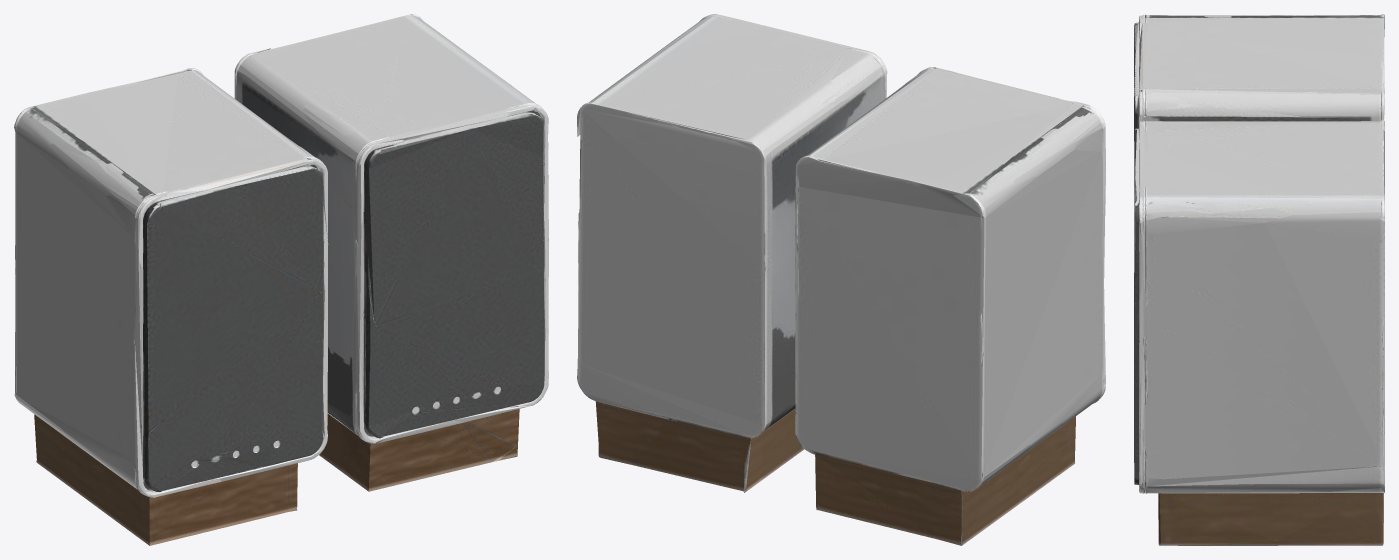
Rendered from onkyo-speakers-gx-30arc.glb.
3 renders of one model, left to right at view 1: azimuth 30°, elevation 25°; view 2: azimuth 150°, elevation 25°; view 3: azimuth 270°, elevation 25°, orthographic.
Size of the model in its own units: 1.9 by 1.58 by 1.02.
Materials: 1 (1 with a texture image).
